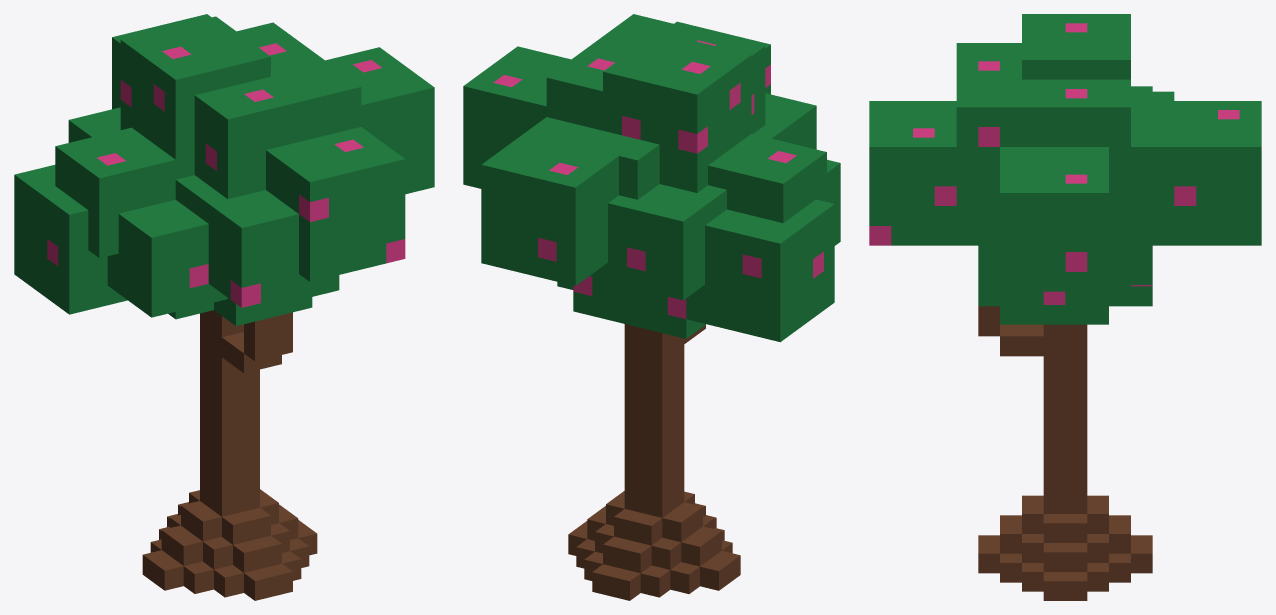
File: pink_tree1.obj
The picture shows the model from 3 angles, left to right: view 1: azimuth 30°, elevation 25°; view 2: azimuth 150°, elevation 25°; view 3: azimuth 270°, elevation 25°; orthographic projection.
Size of the model in its own units: 1.8 by 2.6 by 1.8.
1 material, 1 textured.
